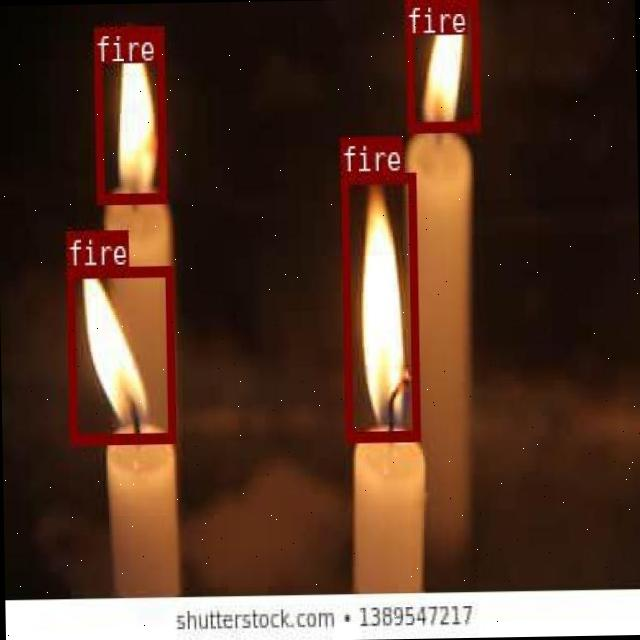fire: (341, 172, 418, 440), (65, 264, 173, 442), (93, 25, 164, 203), (404, 0, 478, 131)
